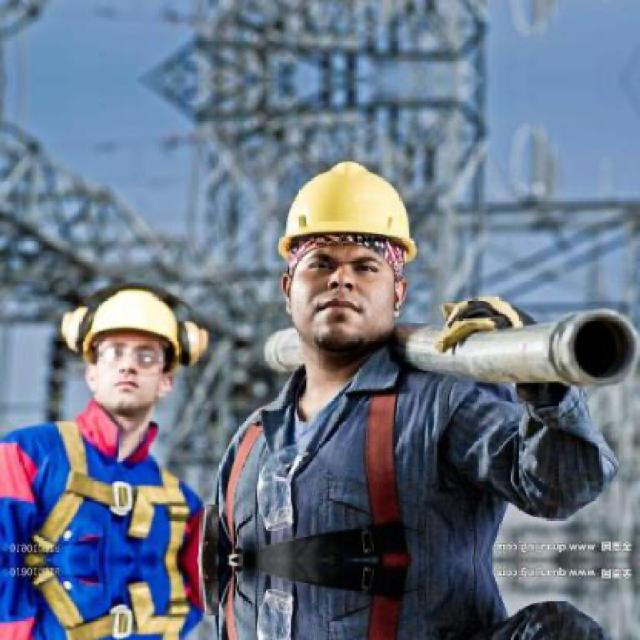con casco: (259, 131, 439, 428), (14, 260, 209, 478)
